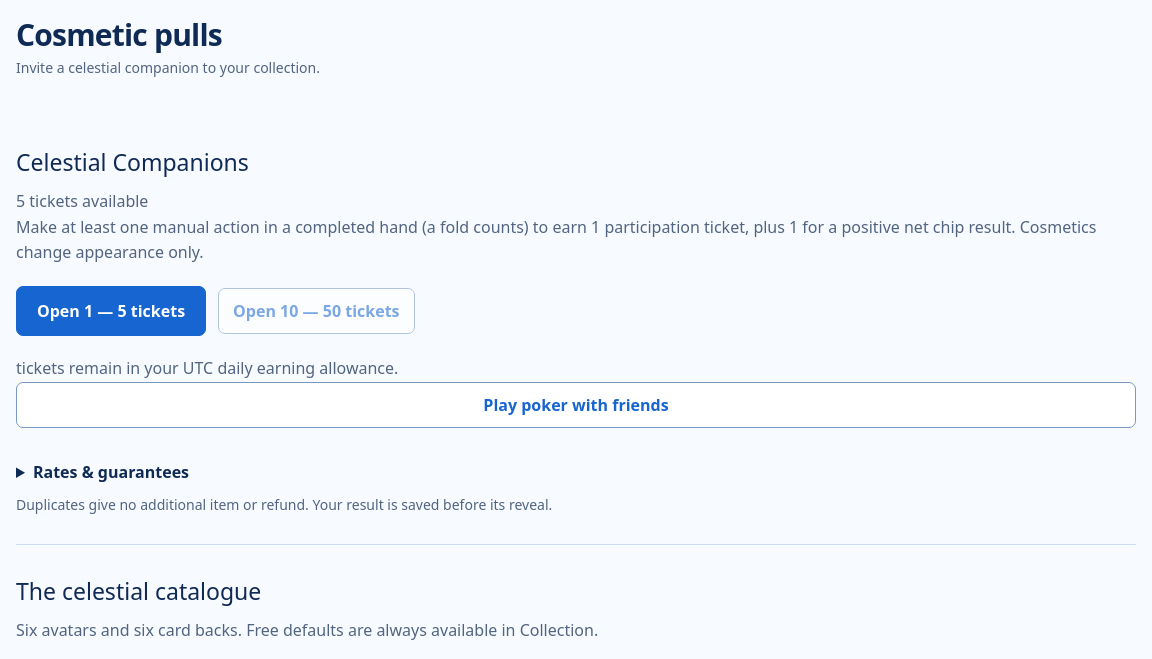
Test: clears a definitive stale catalogue rejection and shows the refreshed price before retry
Click the button "Open 1 — 5 tickets" at (111, 311), box [16,286,206,336]
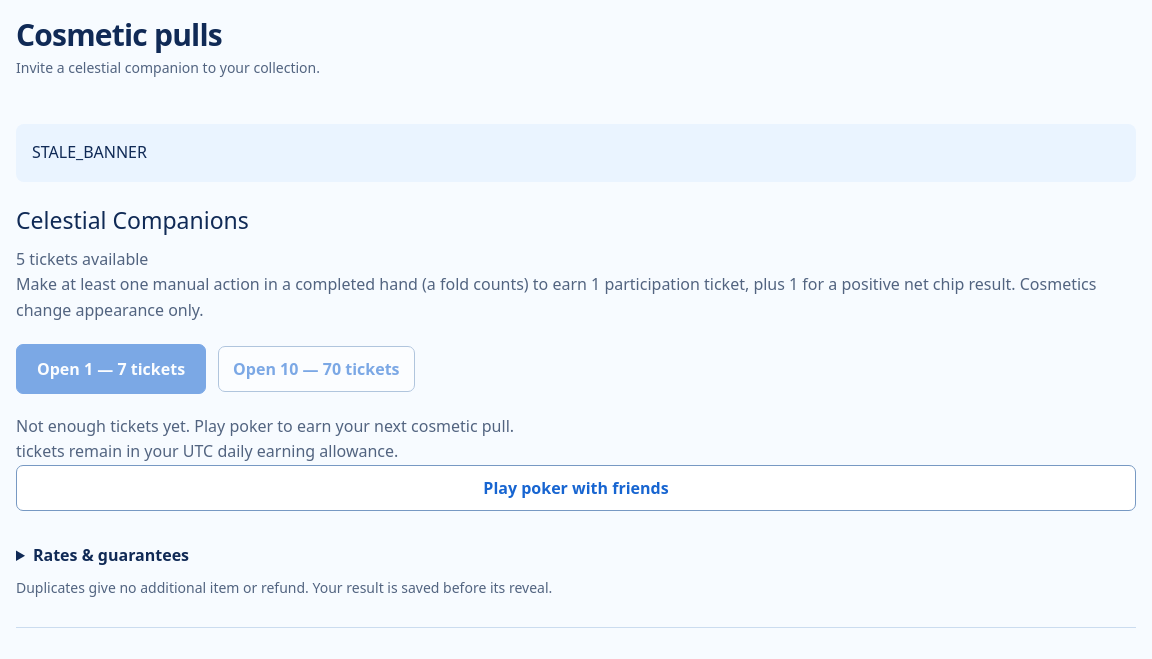
Now the button "Open 1 — 7 tickets" is disabled, box [16,344,206,394]
